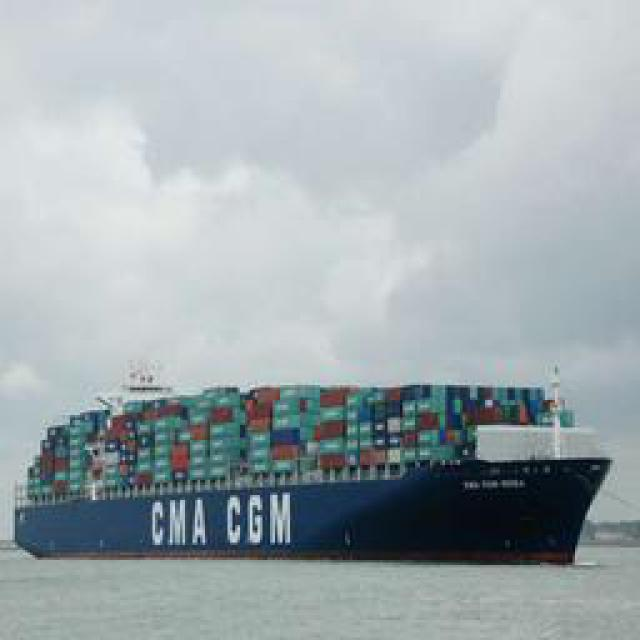Ship: (5, 371, 628, 561)
